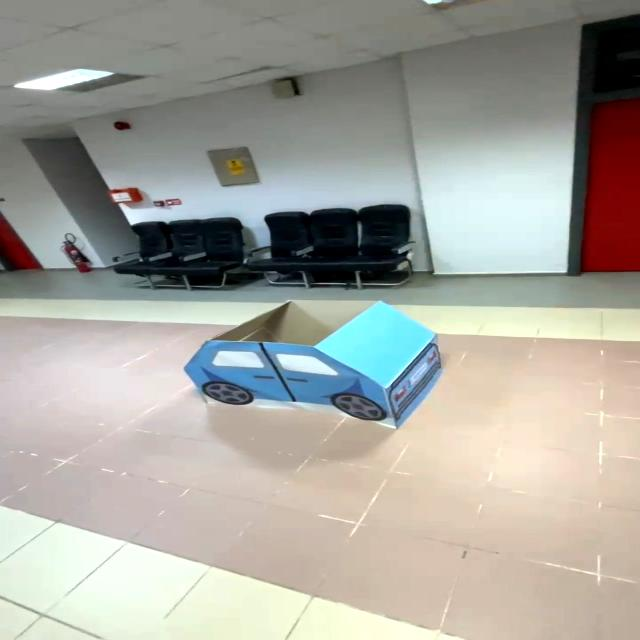blue_car: (174, 286, 455, 443)
